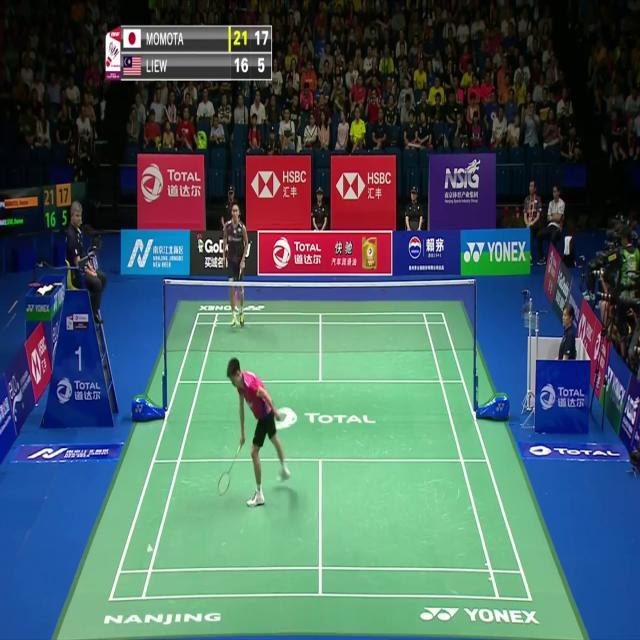Shuttlecock: (146, 543, 153, 554)
